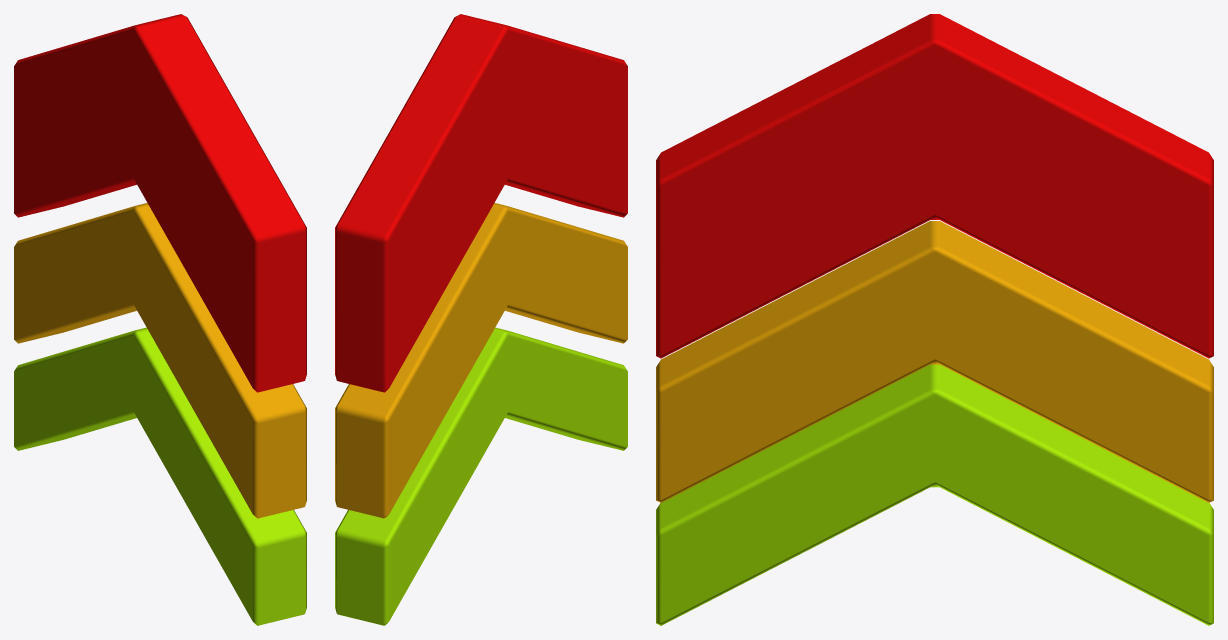
The model's file is speedboost.fbx.
The picture shows the model from 3 angles, left to right: view 1: azimuth 30°, elevation 25°; view 2: azimuth 150°, elevation 25°; view 3: azimuth 270°, elevation 25°; orthographic projection. The views are drawn at different scales.
Parts seen in each view (by area): view 1: Plane; view 2: Plane; view 3: Plane.
Boxes of the visible parts, bbox=[...] form: Plane: bbox=[14, 14, 306, 625]; Plane: bbox=[335, 14, 627, 625]; Plane: bbox=[656, 14, 1213, 625].
Bounding box in the file's own units: 18 × 162 × 140.
